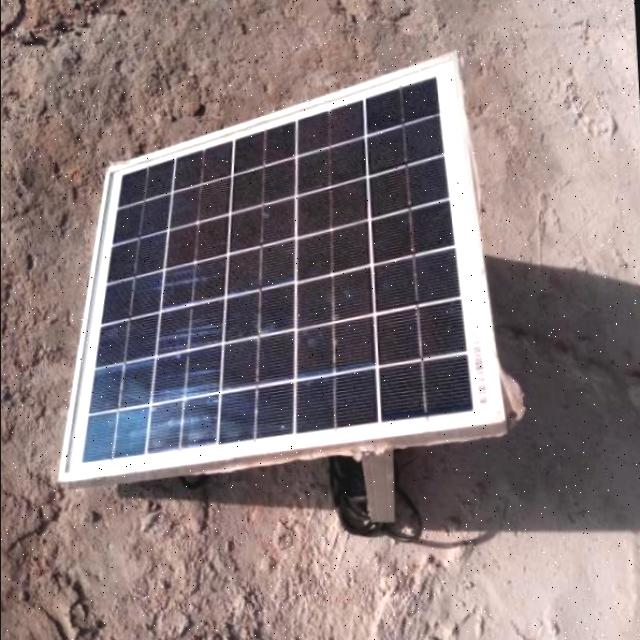Normal Solar Panel: (45, 52, 512, 485)
